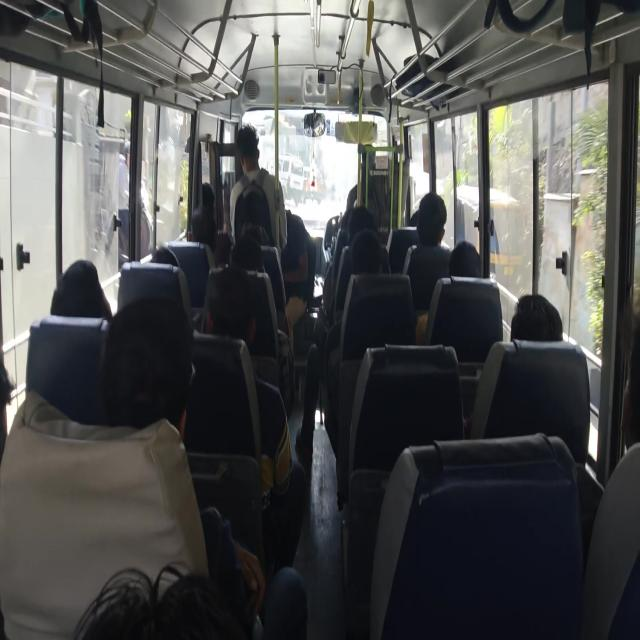person: (90, 512, 308, 640), (112, 318, 195, 425), (48, 261, 104, 331), (512, 285, 568, 352), (212, 272, 264, 340), (616, 357, 640, 453), (418, 181, 454, 240), (188, 197, 223, 251), (156, 231, 191, 282), (360, 250, 395, 296), (232, 219, 264, 265), (446, 249, 486, 285), (346, 202, 385, 232), (408, 208, 420, 230)
